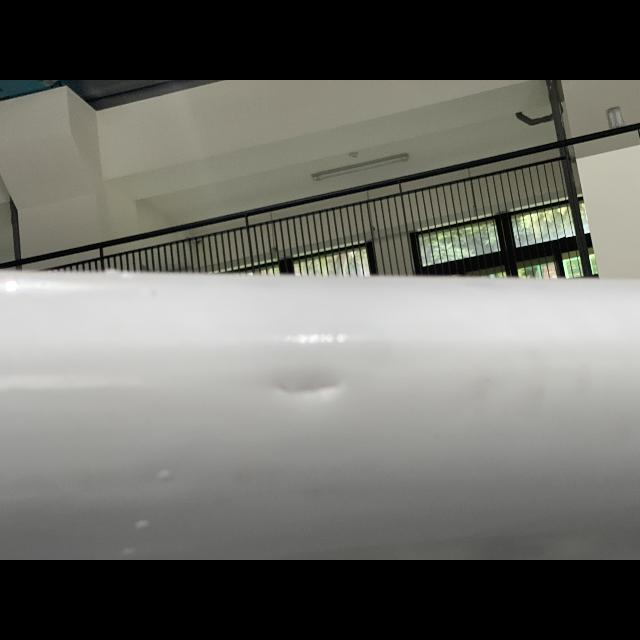dent: (250, 359, 364, 419)
